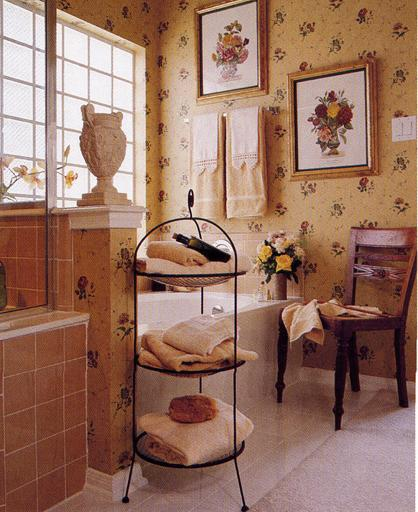Ducha: (0, 8, 63, 511)
Ventana: (53, 44, 142, 214)
